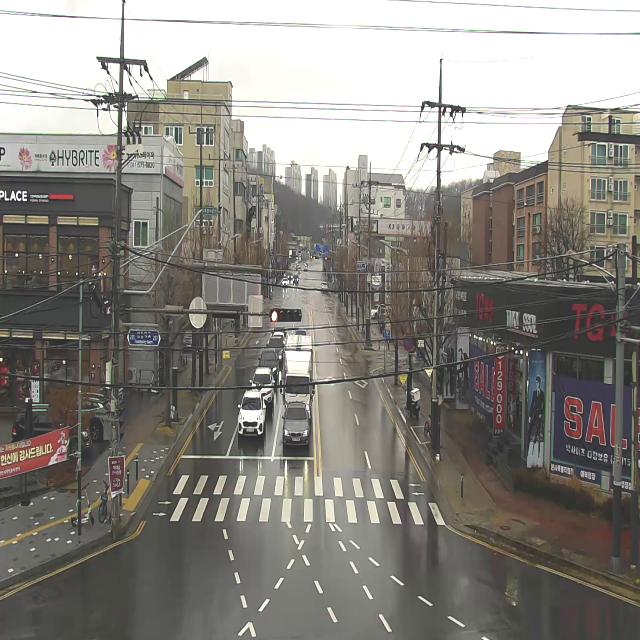Car: (11, 412, 92, 450), (70, 393, 111, 441), (238, 391, 266, 437), (282, 402, 310, 446), (250, 367, 276, 402), (258, 349, 277, 382), (266, 337, 284, 361), (371, 304, 385, 318), (271, 327, 287, 338), (272, 332, 286, 344), (183, 330, 192, 347), (320, 282, 328, 292), (294, 330, 308, 335), (292, 275, 298, 285), (282, 278, 288, 287)
Truck: (280, 336, 315, 418)
